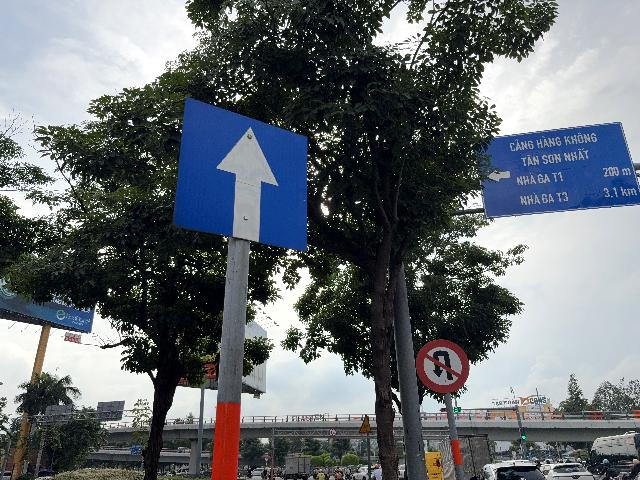cam-quay-dau-xe: (416, 338, 470, 393)
duong-mot-chieu: (173, 96, 307, 251)
